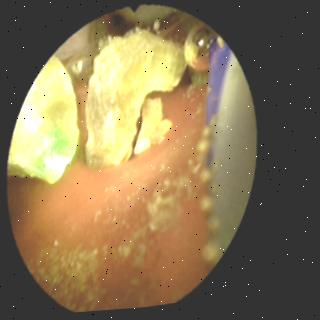stone: (87, 29, 187, 168), (11, 57, 79, 183), (137, 98, 173, 155)
tissue: (15, 91, 205, 311)
